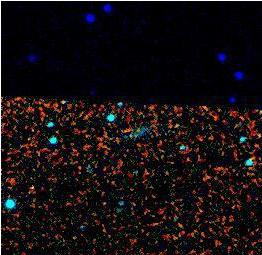star: (0, 188, 25, 218)
